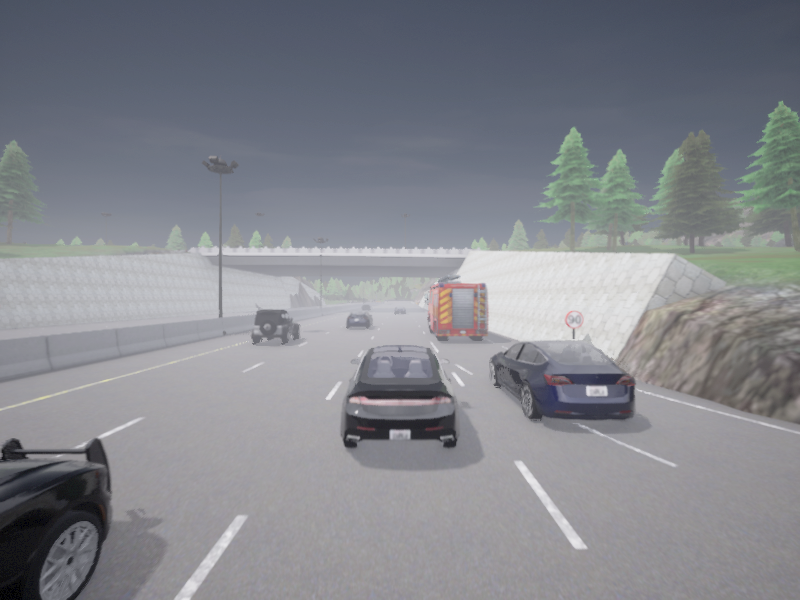vehicle: (0, 438, 111, 599), (340, 345, 459, 447), (489, 340, 636, 420), (424, 275, 487, 339), (251, 310, 299, 343), (346, 311, 372, 327), (395, 306, 405, 313), (361, 304, 371, 311)
